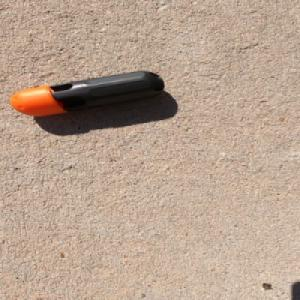PlasticPart: (9, 69, 165, 117)
